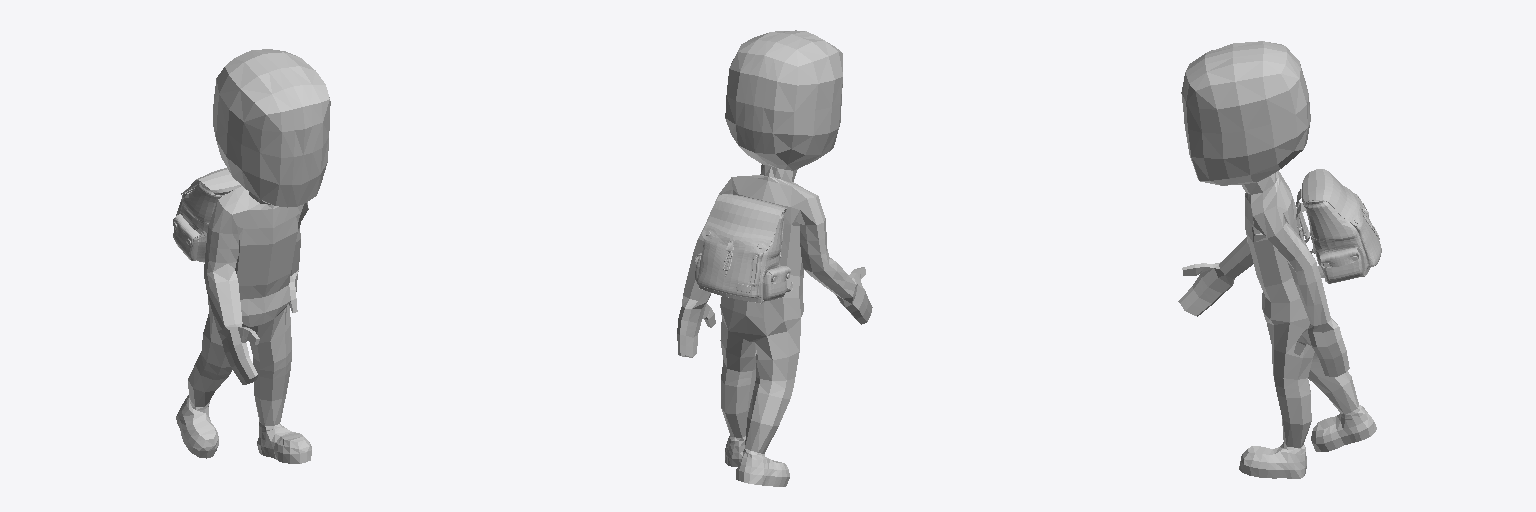
File: player_correndo_4.obj
3 views of the same model, side by side, from view 1: azimuth 30°, elevation 25°; view 2: azimuth 150°, elevation 25°; view 3: azimuth 270°, elevation 25° (orthographic).
Parts seen in each view (by area): view 1: characterMedium, Cube; view 2: characterMedium, Cube; view 3: characterMedium, Cube.
Part boxes in pixels (x1,y1,x2,y2): characterMedium: (176, 49, 330, 463); Cube: (173, 168, 241, 262); characterMedium: (677, 30, 872, 486); Cube: (695, 194, 792, 303); characterMedium: (1178, 41, 1376, 478); Cube: (1296, 169, 1381, 283).
Bounding box in the file's own units: 1.16 × 3.76 × 1.67.